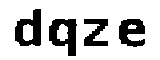d: (7, 6, 44, 52)
e: (119, 16, 149, 49)
q: (46, 16, 81, 60)
z: (83, 16, 112, 53)
